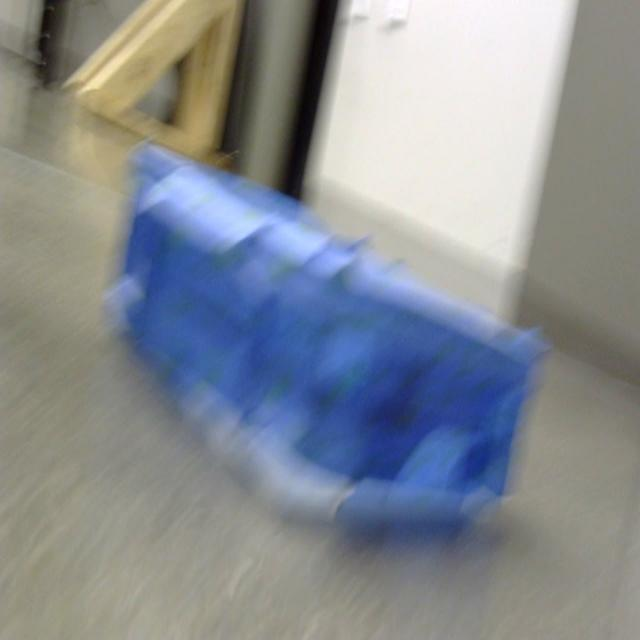bucket: (102, 144, 551, 527)
